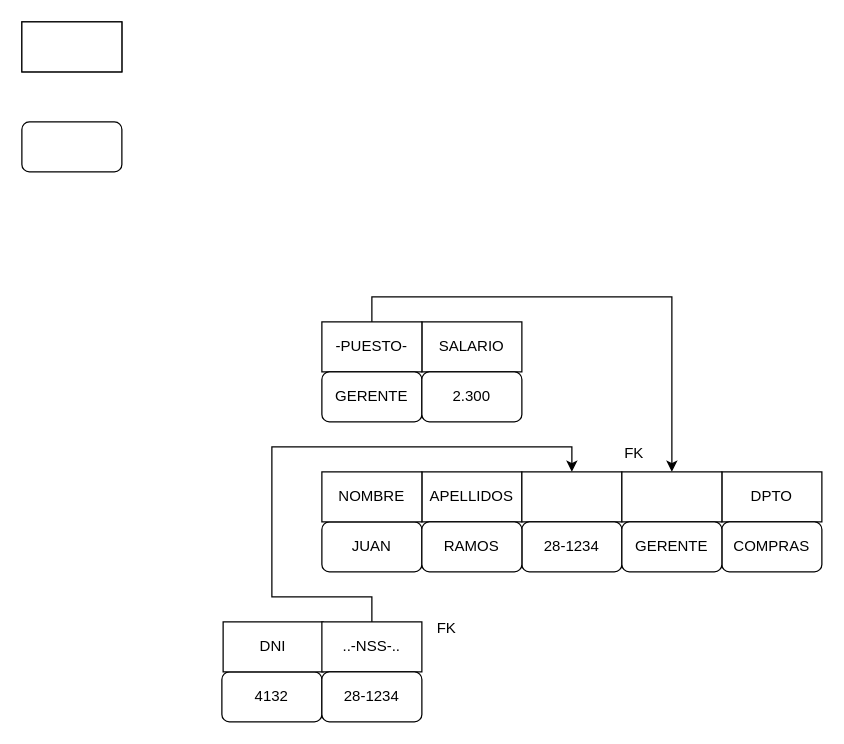
Some shapes in this 844 by 744 pixel diagram are drawn without their labels. Each missing label, with the centre of its shape:
-NSS-: the point at 571,496
..PUESTO..: the point at 671,496
